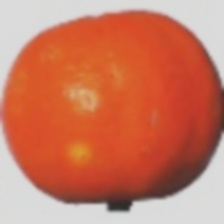tangerine: (15, 23, 198, 194)
